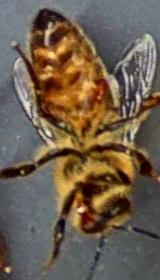varroa_mite: (82, 66, 116, 111)
